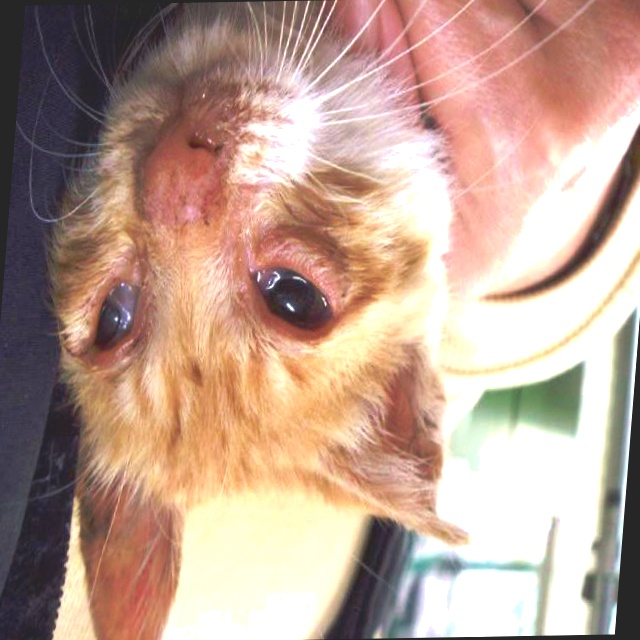eye_infection: (247, 250, 340, 339), (74, 273, 150, 360)
